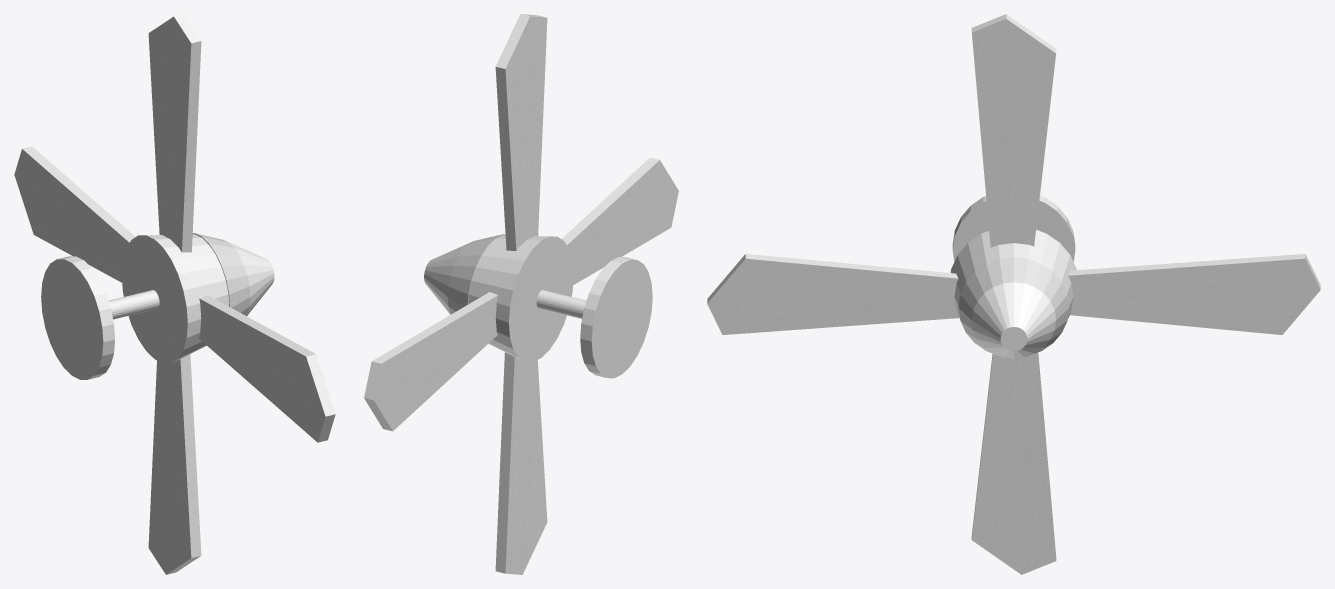
File: classicceilingfan.obj
The picture shows the model from 3 angles, left to right: view 1: azimuth 30°, elevation 25°; view 2: azimuth 150°, elevation 25°; view 3: azimuth 270°, elevation 25°; orthographic projection. The views are drawn at different scales.
Parts seen in each view (by area): view 1: Rotor, Metal, Base, Trim, Light0; view 2: Rotor, Metal, Base, Trim, Light0; view 3: Rotor, Light0, Trim, Metal, Base.
Part boxes in pixels (x1,y1,x2,y2): Rotor: (14,14,335,574); Metal: (108,234,229,363); Base: (41,256,114,379); Trim: (192,233,250,315); Light0: (226,241,274,316); Rotor: (364,14,678,574); Metal: (468,235,586,362); Base: (580,257,652,378); Trim: (447,234,505,314); Light0: (424,241,472,314); Rotor: (707,14,1320,574); Light0: (972,282,1055,358); Trim: (958,257,1069,353); Metal: (950,229,1076,318); Base: (952,195,1075,261).
Bounding box in the file's own units: 0.58 × 1.6 × 1.6.
